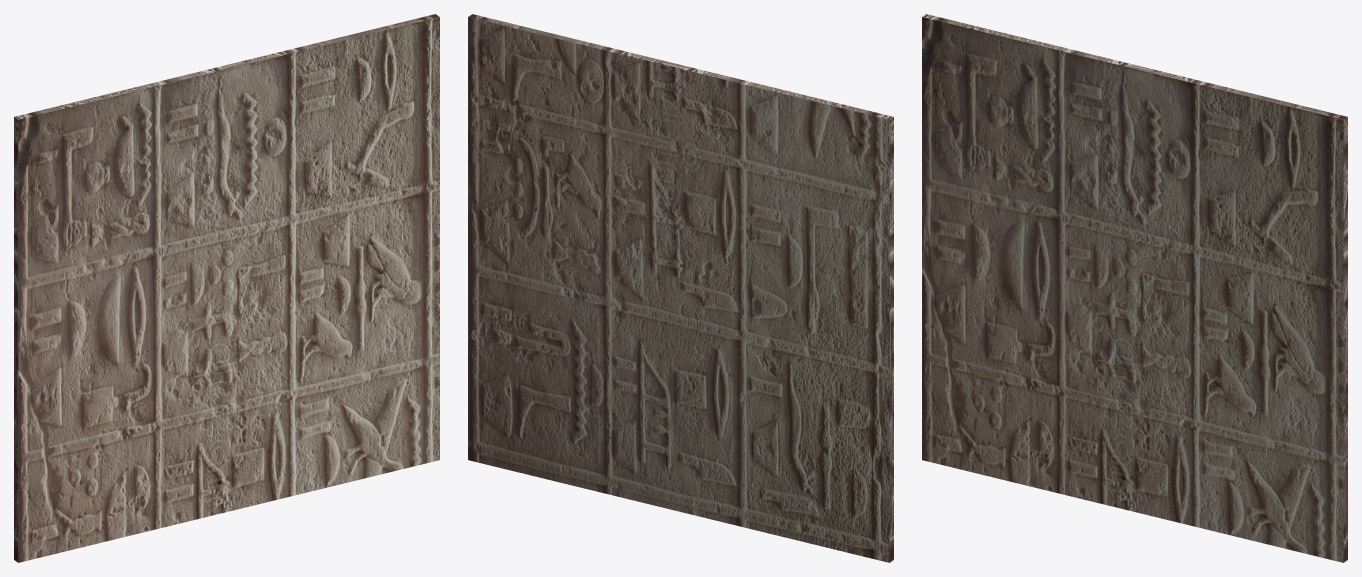
File: ParedePuzzle.fbx
3 views of the same model, side by side, from view 1: azimuth 30°, elevation 25°; view 2: azimuth 150°, elevation 25°; view 3: azimuth 330°, elevation 25° (orthographic).
Visible parts, largest first — view 1: Cube; view 2: Cube; view 3: Cube.
Boxes of the visible parts, x1,y1,x2,y2 form: Cube: (14, 14, 439, 562); Cube: (468, 14, 893, 562); Cube: (922, 14, 1347, 562).
Size of the model in its own units: 11641 by 11692 by 200.
1 material, 1 textured.
